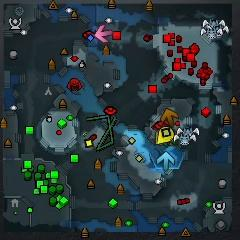p4: (158, 127, 174, 144)
x1: (95, 25, 113, 43)
x2: (155, 131, 159, 144)
x3: (157, 151, 175, 171)
x4: (162, 140, 178, 147)
x5: (160, 108, 179, 128)
